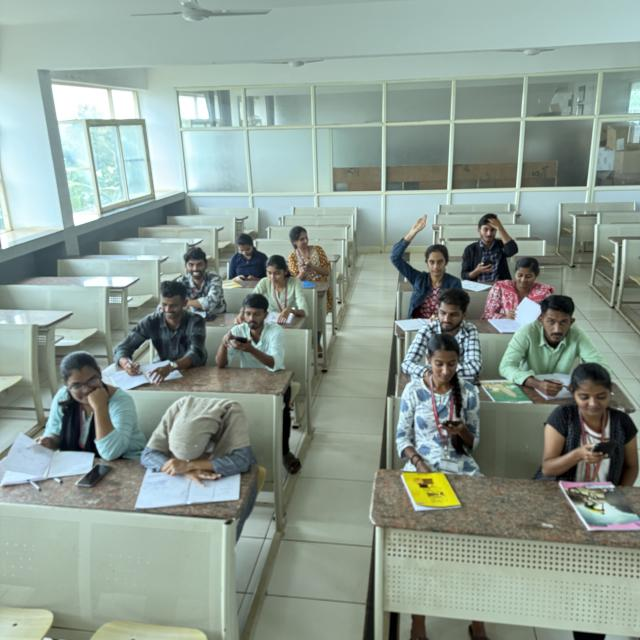Hand Rising: (392, 214, 456, 298)
Reading: (25, 352, 115, 463), (485, 263, 546, 333), (261, 254, 302, 322)
Sleeping: (144, 390, 250, 474)
Using Phone: (400, 336, 482, 446), (556, 364, 638, 471), (219, 294, 281, 372), (461, 208, 519, 282), (226, 234, 266, 284)
Writing: (113, 279, 192, 384)
